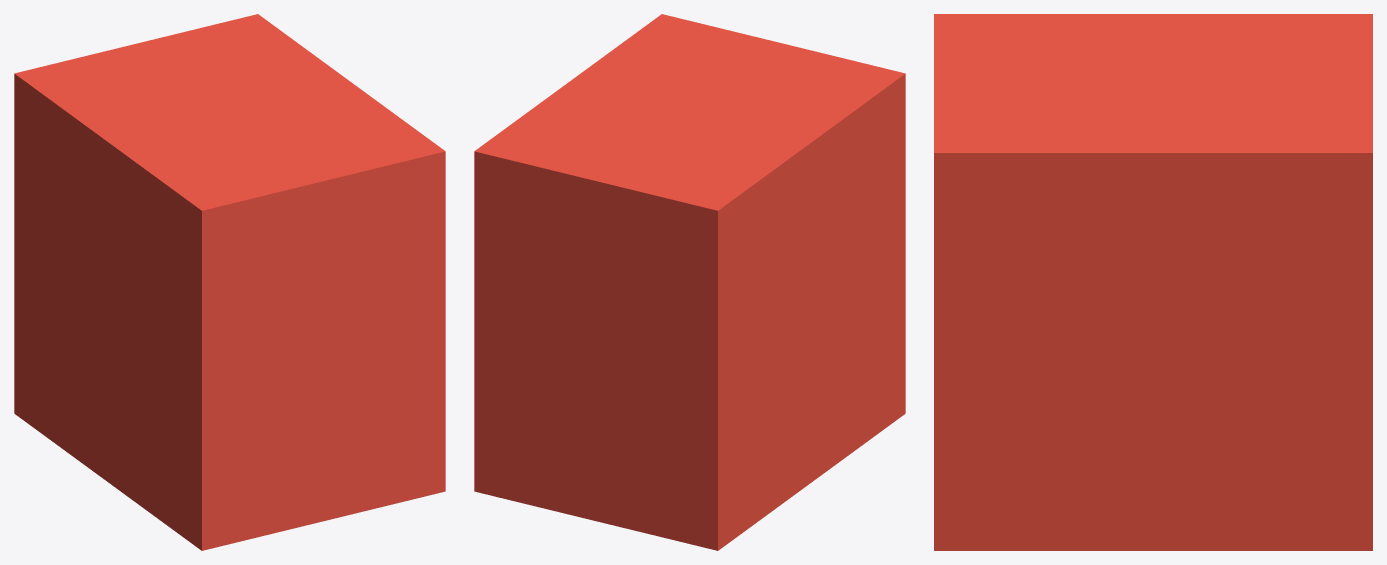
Rendered from Wall_Mid_08.fbx.
3 renders of one model, left to right at view 1: azimuth 30°, elevation 25°; view 2: azimuth 150°, elevation 25°; view 3: azimuth 270°, elevation 25°, orthographic. The views are drawn at different scales.
Visible parts, largest first — view 1: Cube.327; view 2: Cube.327; view 3: Cube.327.
Boxes of the visible parts, <box> form: Cube.327: <box>14,14,445,550</box>; Cube.327: <box>474,14,905,550</box>; Cube.327: <box>934,14,1372,550</box>.
Bounding box in the file's own units: 75 × 100 × 100.
